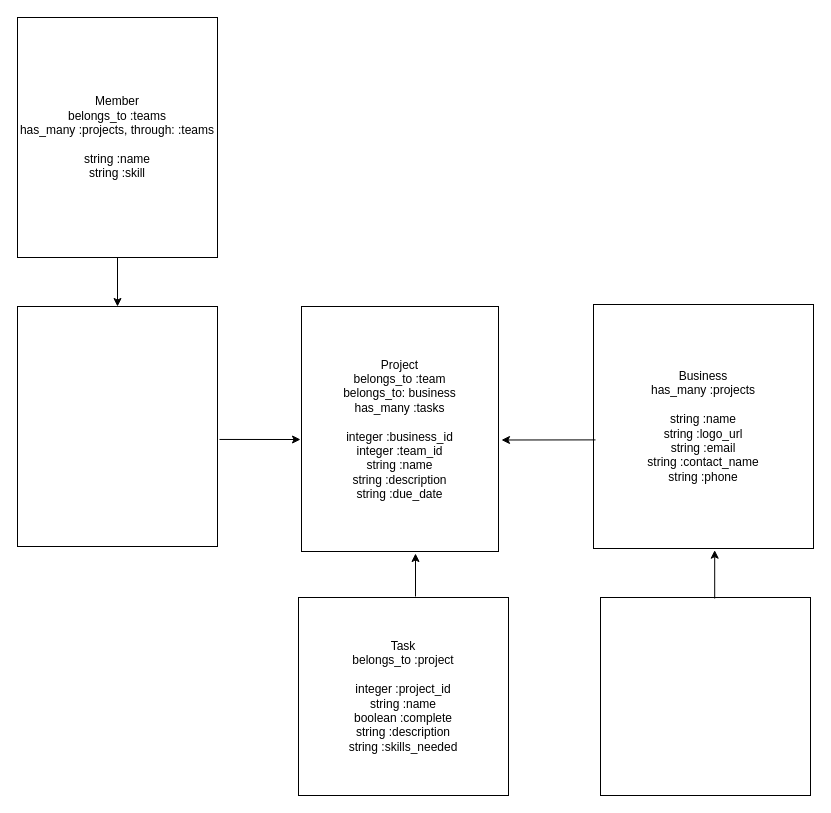
The diagram is 831 pixels wide and 813 high, and some of its shapes have lost their labels. Here are the shapes that lost their labels. From the top down, the centre of each, then its label:
At pixel 117 426: "Team has_many :projects has_many :tasks, through: :projects integer :member_id".
At pixel 705 696: "Request belongs_to :business string :request integer :business_id".
